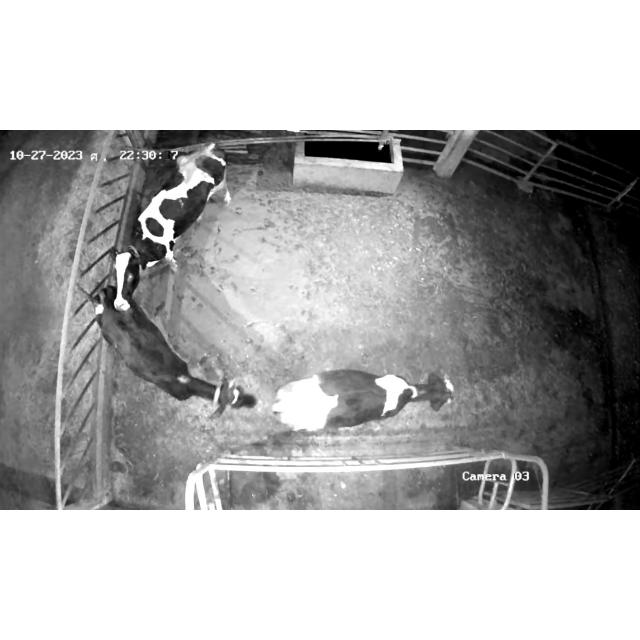propping: (99, 248, 153, 328)
stand: (94, 290, 256, 428), (269, 344, 463, 452)
